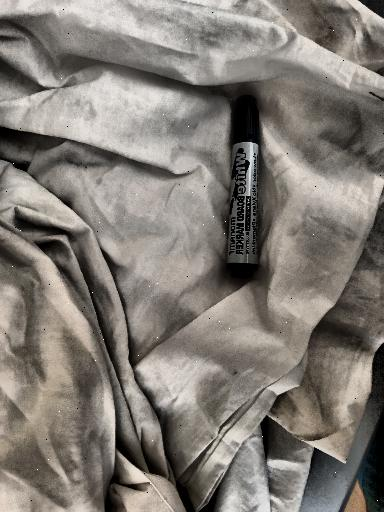marcador negro: (227, 94, 259, 278)
